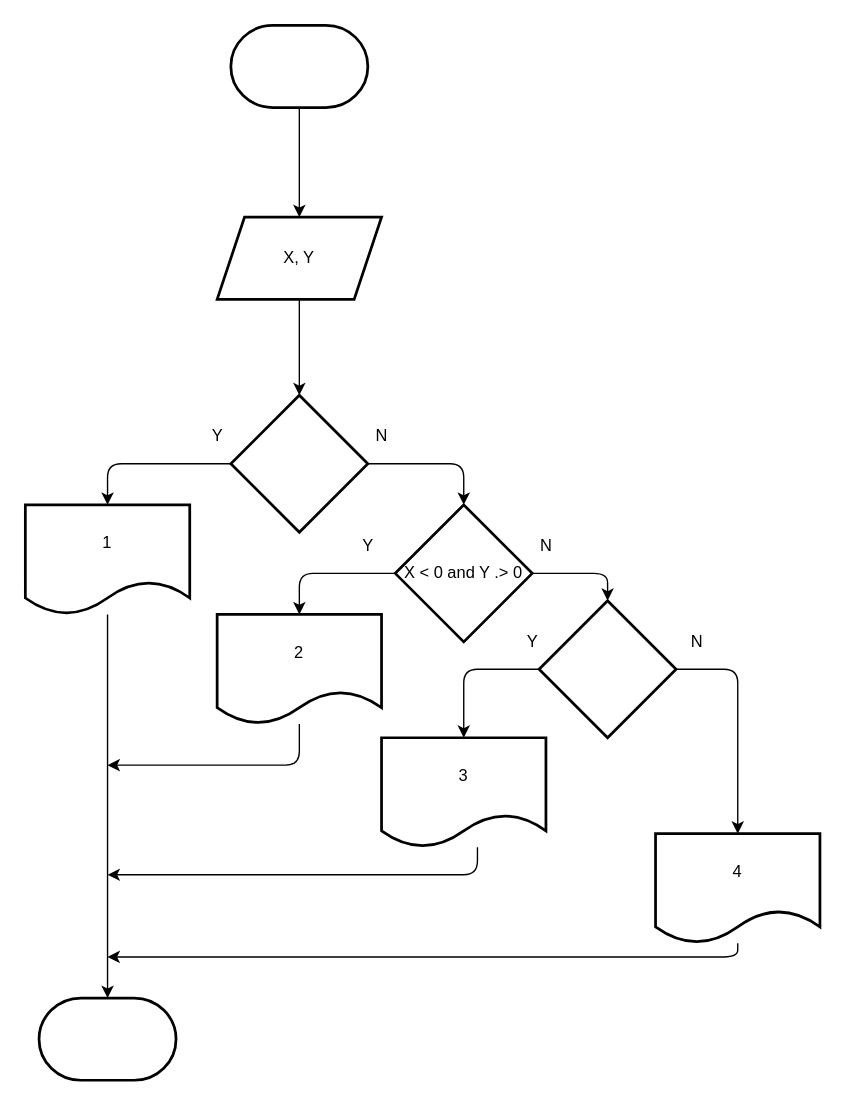
This 844x1104 diagram has some shape labels left out. Here are the shapes that lost their labels. From the top down, the centre of each, then its label:
At [299,65]: "start".
At [299,463]: "X > 0 and Y .> 0".
At [607,668]: "X < 0 and Y < 0".
